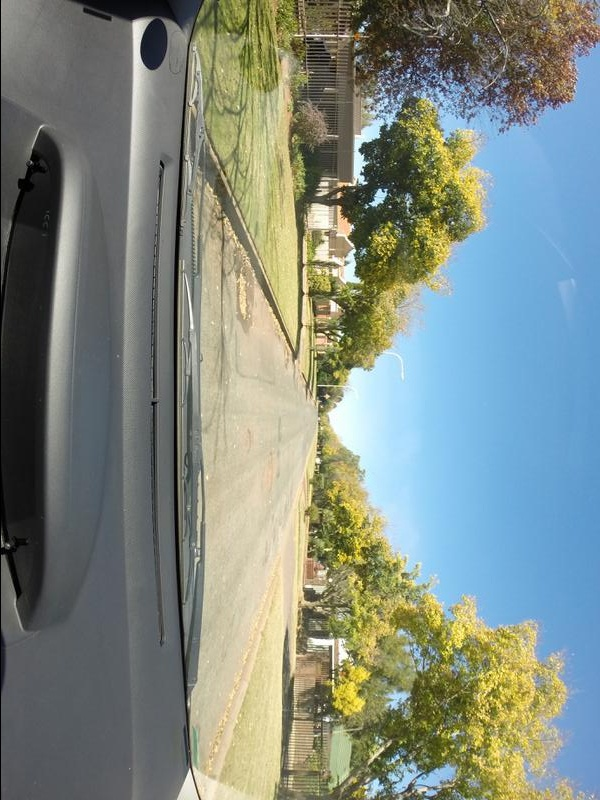pothole: (262, 452, 279, 499), (233, 280, 252, 319), (245, 432, 253, 454)
